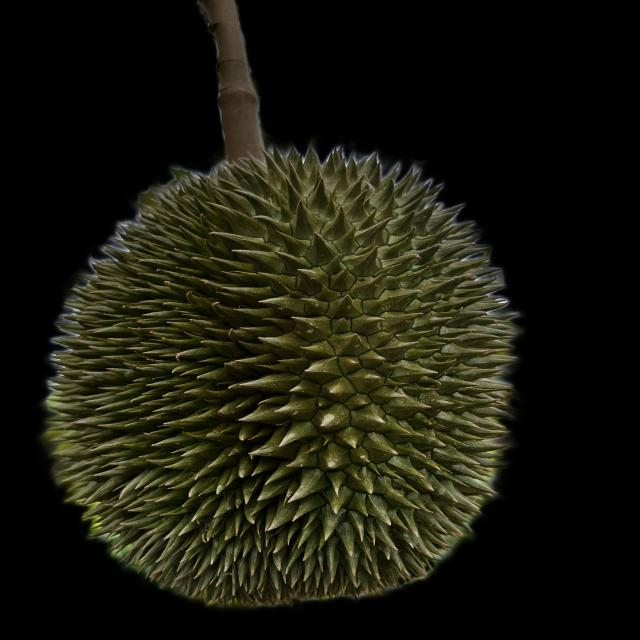immature: (44, 140, 517, 608)
